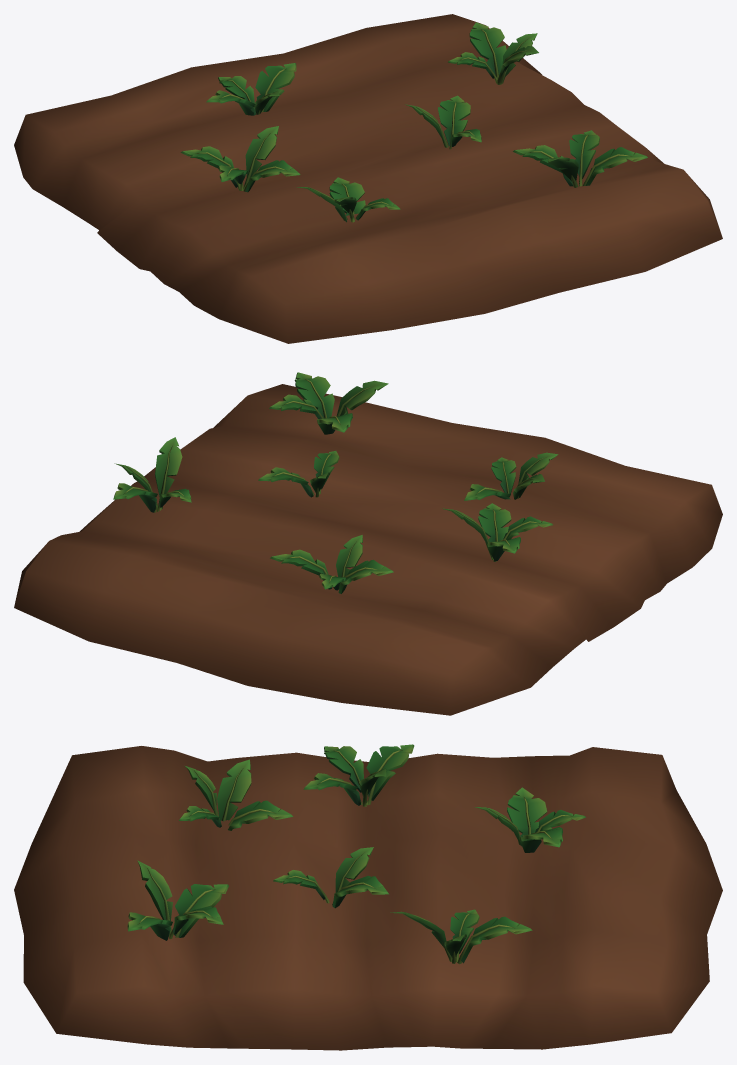
Rendered from SM_PlantSoil_Carrot_Lv1.fbx.
3 views of the same model, one above another, from view 1: azimuth 30°, elevation 25°; view 2: azimuth 150°, elevation 25°; view 3: azimuth 270°, elevation 25° (orthographic). The views are drawn at different scales.
Visible parts, largest first — view 1: SM_PlantSoil_Carrot_Lv1; view 2: SM_PlantSoil_Carrot_Lv1; view 3: SM_PlantSoil_Carrot_Lv1.
Part boxes in pixels (x1=…): SM_PlantSoil_Carrot_Lv1: x1=14, y1=14, x2=722, y2=343; SM_PlantSoil_Carrot_Lv1: x1=14, y1=372, x2=722, y2=715; SM_PlantSoil_Carrot_Lv1: x1=14, y1=744, x2=722, y2=1050.
Size of the model in its own units: 96.14 by 16.43 by 103.
